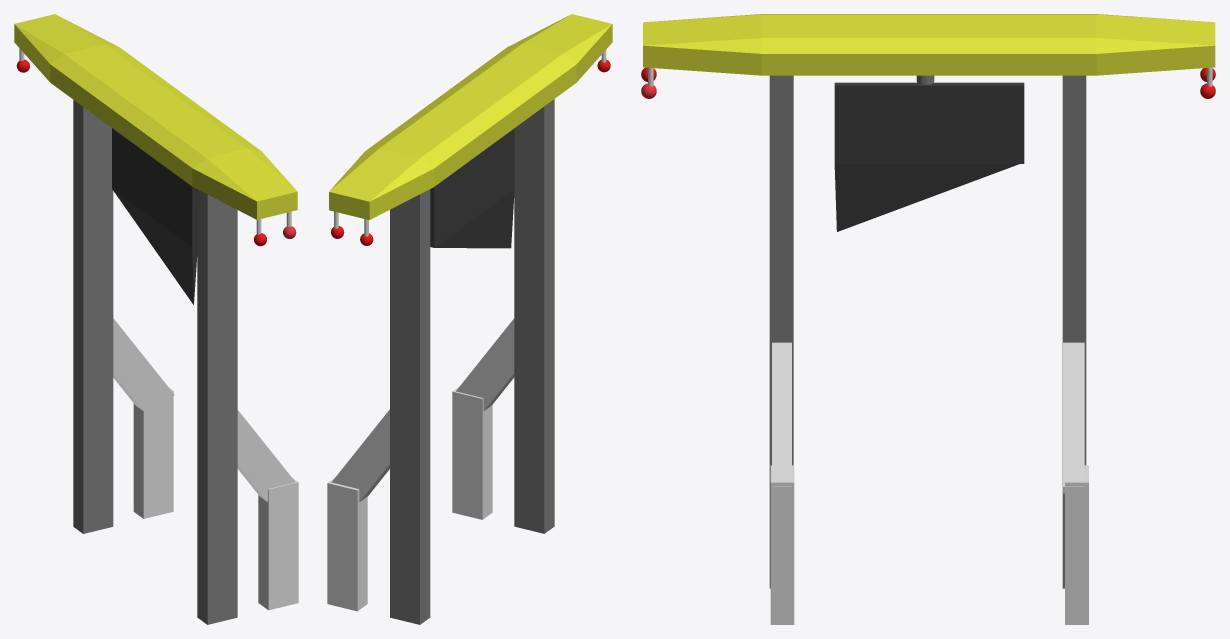
File: KUBIKIRIDAI.fbx
3 renders of one model, left to right at view 1: azimuth 30°, elevation 25°; view 2: azimuth 150°, elevation 25°; view 3: azimuth 270°, elevation 25°, orthographic. The views are drawn at different scales.
Visible parts, largest first — view 1: 立方体.001, 立方体, 立方体.003, 立方体.002, 立方体.004, 立方体.005, 立方体.007, 立方体.006; view 2: 立方体.001, 立方体.003, 立方体, 立方体.002, 立方体.005, 立方体.004, 立方体.006, 立方体.007; view 3: 立方体.001, 立方体.002, 立方体, 立方体.003, 立方体.004, 立方体.005, 立方体.007, 立方体.006.
Part boxes in pixels (x1,y1,x2,y2): 立方体.001: [14, 14, 297, 219]; 立方体: [197, 189, 237, 624]; 立方体.003: [73, 100, 113, 533]; 立方体.002: [112, 128, 197, 304]; 立方体.004: [258, 477, 298, 610]; 立方体.005: [133, 387, 173, 518]; 立方体.007: [113, 318, 174, 418]; 立方体.006: [237, 410, 295, 501]; 立方体.001: [329, 14, 612, 219]; 立方体.003: [390, 189, 430, 624]; 立方体: [514, 99, 554, 533]; 立方体.002: [430, 128, 514, 248]; 立方体.005: [327, 478, 367, 611]; 立方体.004: [452, 386, 492, 519]; 立方体.006: [456, 318, 514, 410]; 立方体.007: [331, 409, 389, 501]; 立方体.001: [643, 14, 1215, 75]; 立方体.002: [834, 82, 1024, 231]; 立方体: [769, 75, 793, 588]; 立方体.003: [1062, 75, 1086, 588]; 立方体.004: [770, 465, 794, 624]; 立方体.005: [1065, 465, 1088, 624]; 立方体.007: [1063, 342, 1084, 493]; 立方体.006: [772, 342, 791, 486].
Size of the model in its own units: 733 by 2992 by 2806.
